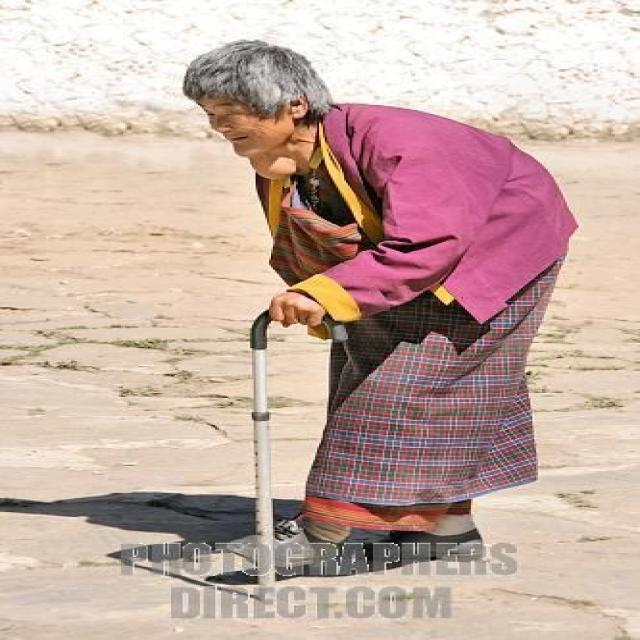idoso em pe: (137, 35, 536, 576)
